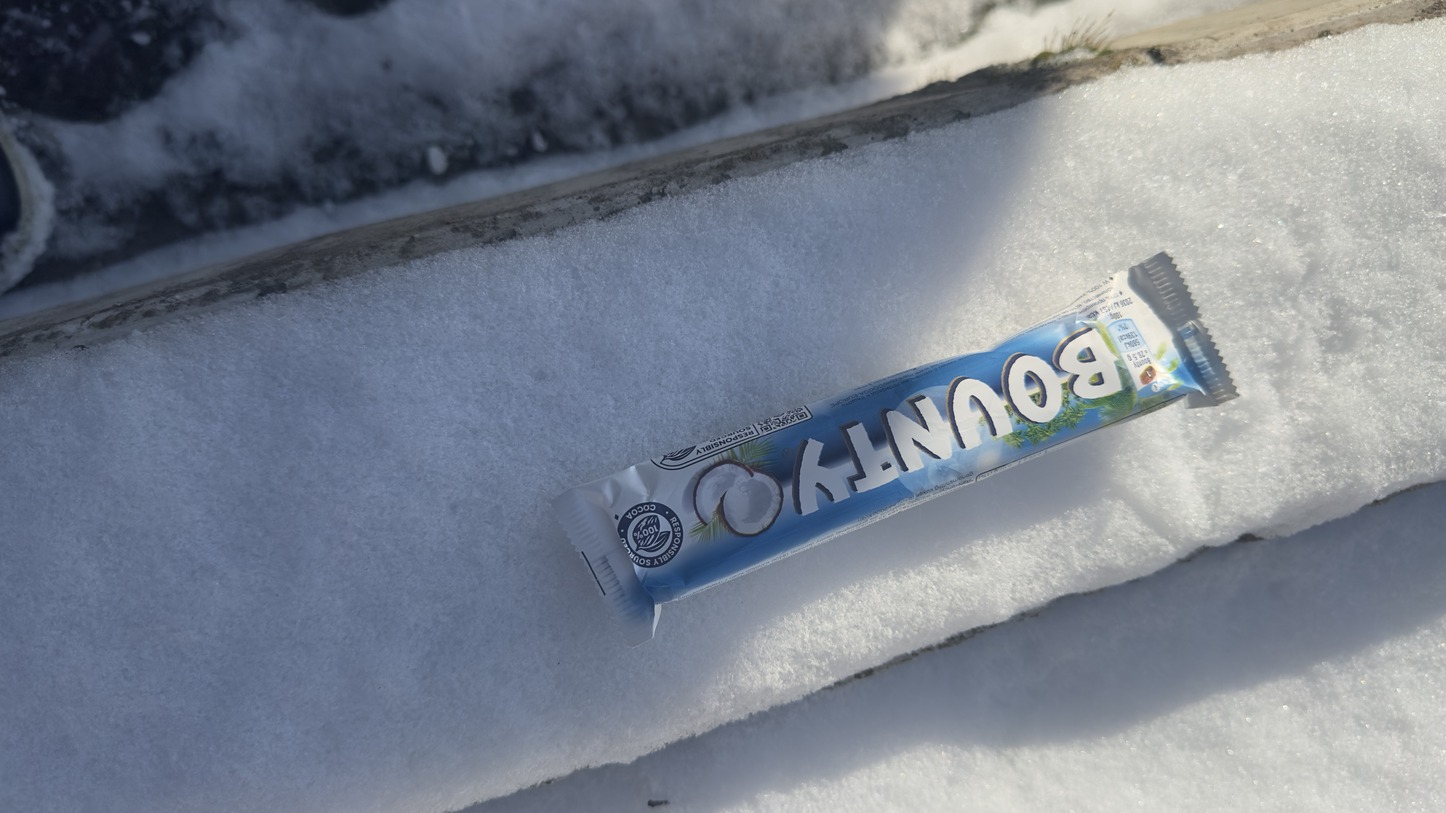BOUNTY: (1178, 247, 1346, 813)
